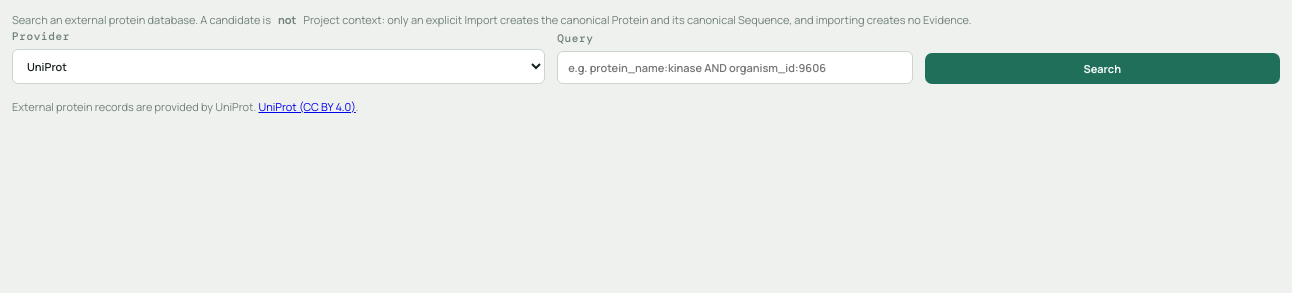
Test: ProteinDiscoveryView › a viewer can search but is not offered Import
In the field named "Protein search query": (735, 67) [557,51,912,84], type "kinase"
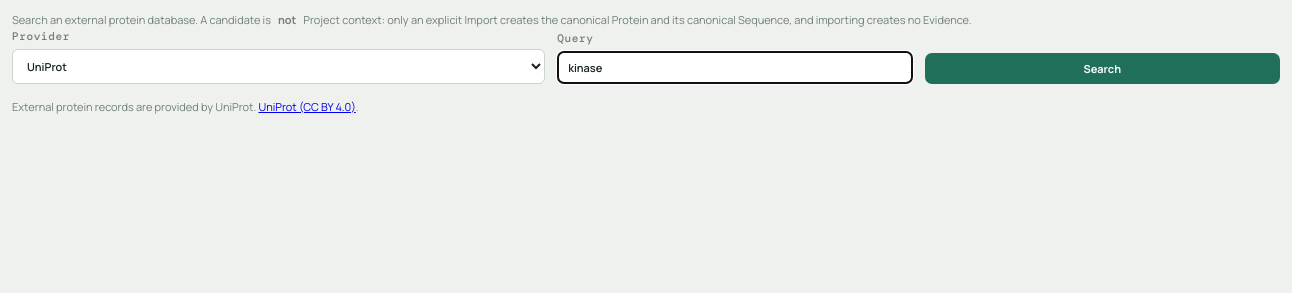
Click the button "Search": (1102, 68) [925,53,1280,84]
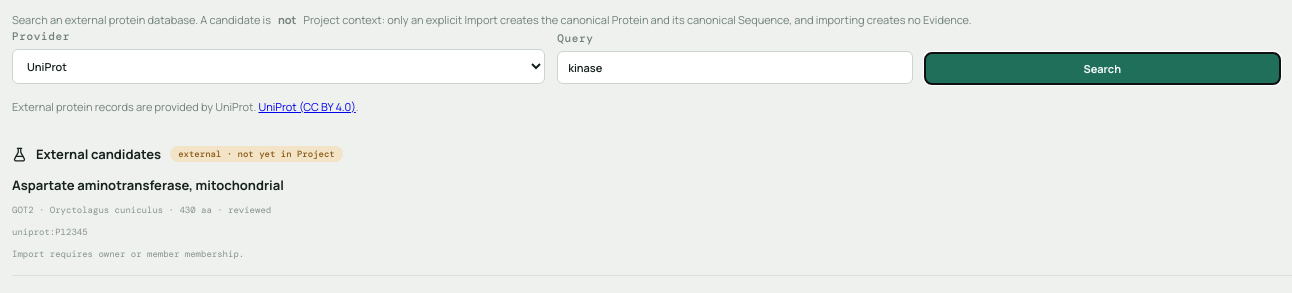
expect the text "External candidates" is shown: met, box [36,145,161,163]
expect the text "Import requires owner or member membership." is shown: met, box [12,248,244,262]
